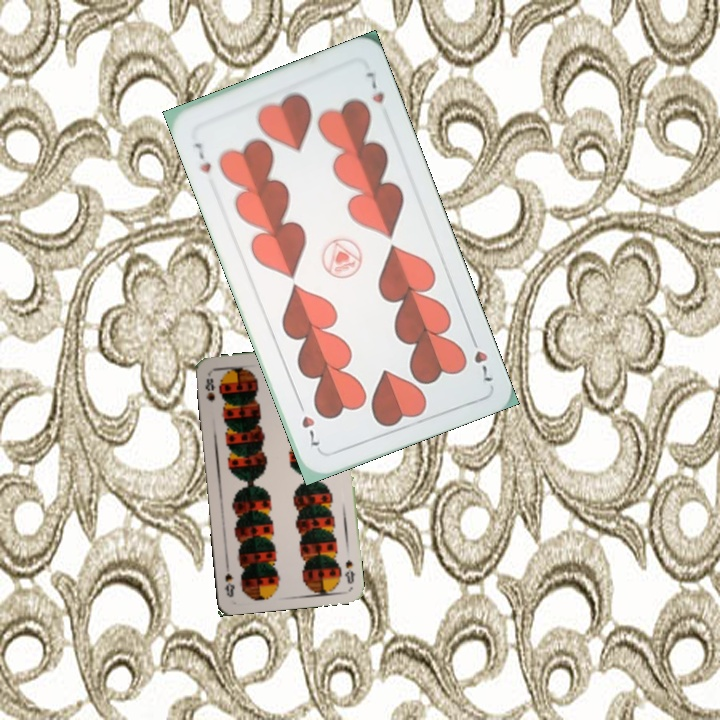H7: (466, 330, 495, 384), (190, 138, 214, 176)
S8: (201, 374, 218, 405), (341, 556, 358, 586)
